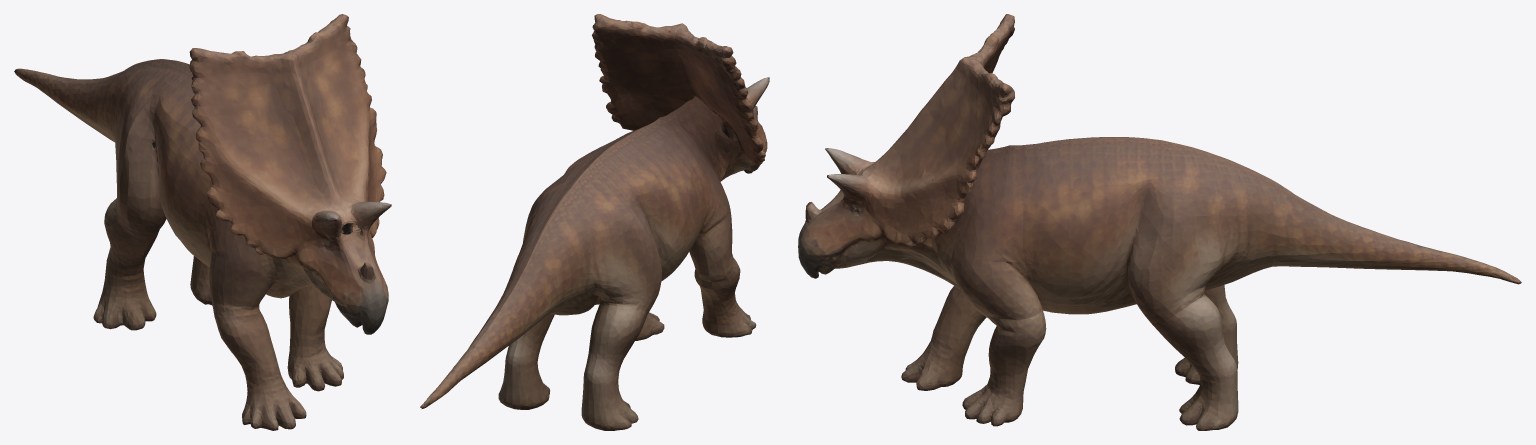
3 views of the same model, side by side, from view 1: azimuth 30°, elevation 25°; view 2: azimuth 150°, elevation 25°; view 3: azimuth 270°, elevation 25° (orthographic). The views are drawn at different scales.
Visible parts, largest first — view 1: world; view 2: world; view 3: world.
Part boxes in pixels (x1,y1,x2,y2): world: (14, 14, 391, 430); world: (420, 14, 769, 430); world: (798, 14, 1521, 430).
Size of the model in its own units: 1.32 by 2.53 by 4.8.
1 material, 1 textured.
